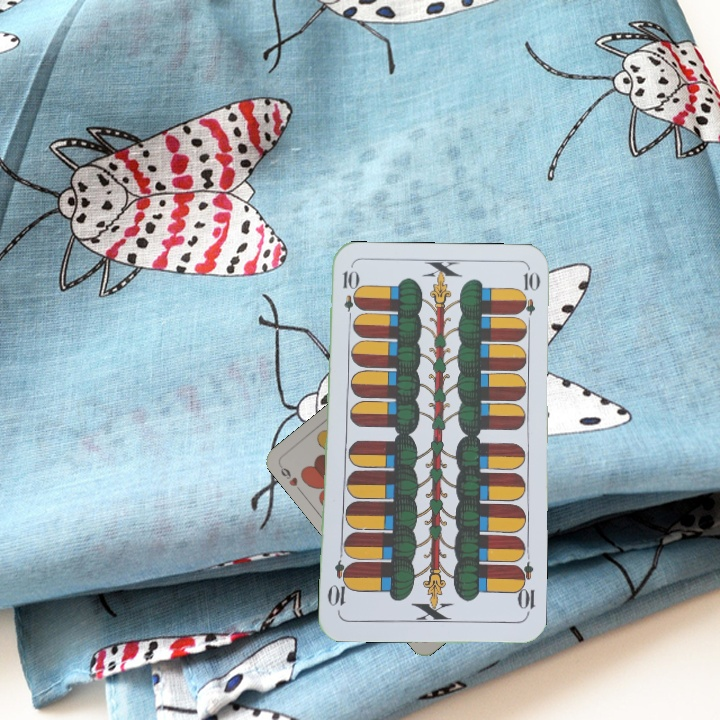E10: (511, 559, 537, 618), (339, 266, 357, 325)
H9: (276, 461, 305, 496)
